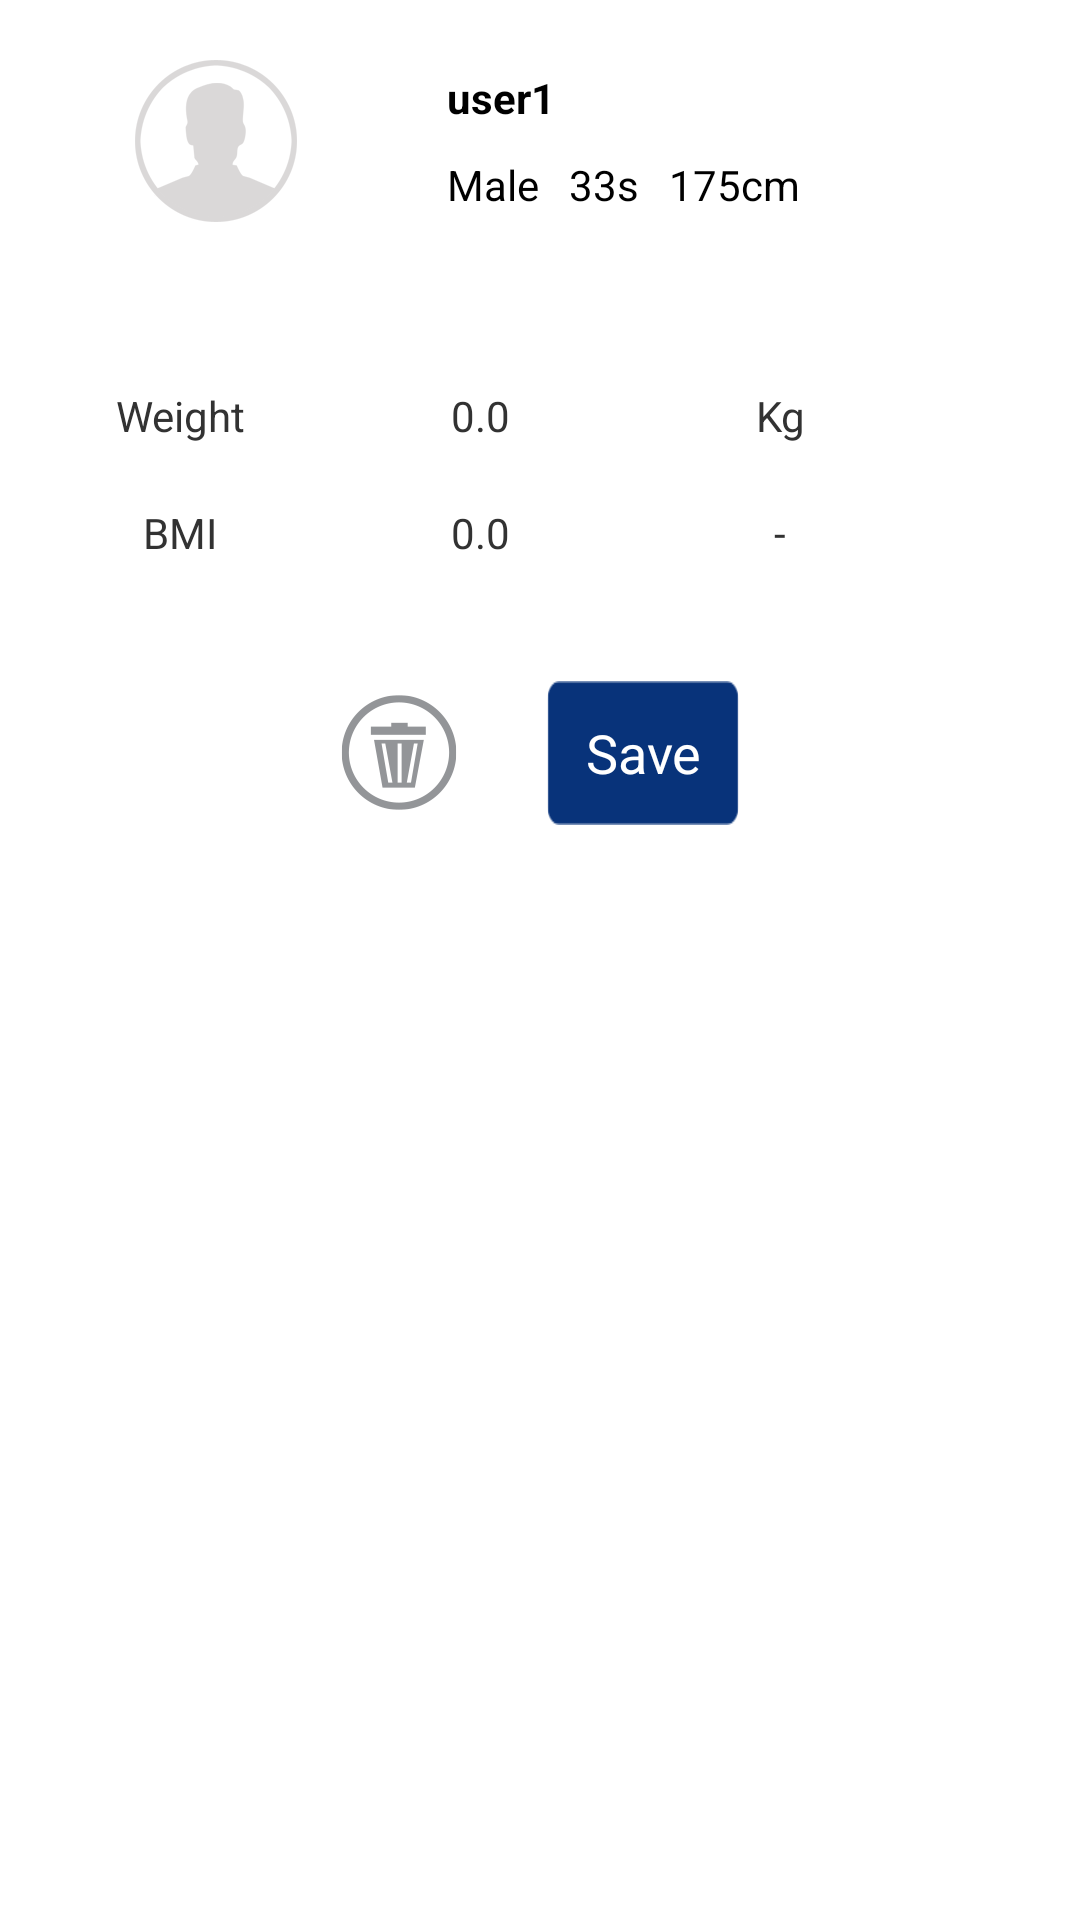

Screen size 1080px×1920px. Icon name, then its center in pixels as (x,y):
first dialog delete: (399,752)
head: (216,141)
